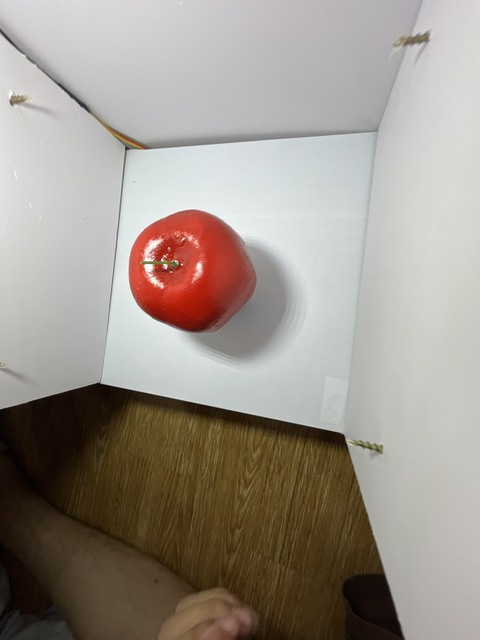Tao: (123, 206, 260, 338)
